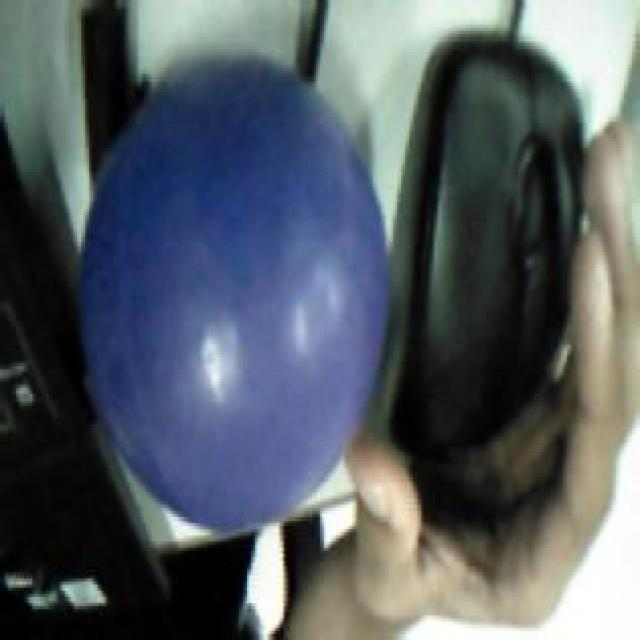BallPurple: (80, 56, 390, 532)
